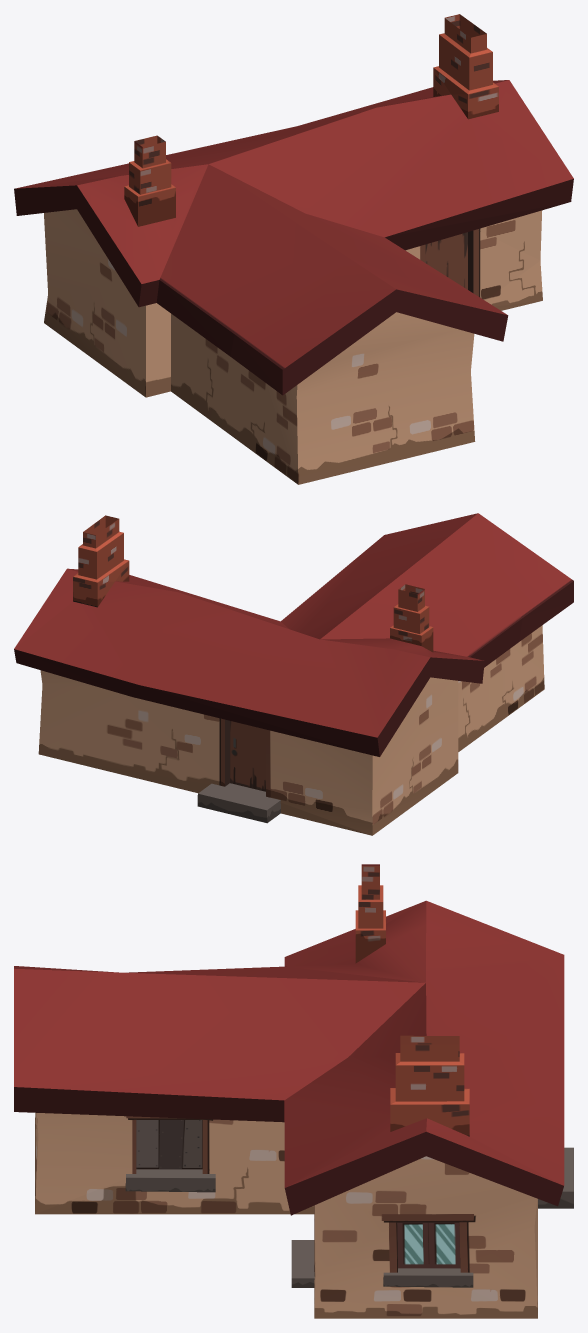
Rendered from farm_house_01.fbx.
3 renders of one model, top to bottom at view 1: azimuth 30°, elevation 25°; view 2: azimuth 150°, elevation 25°; view 3: azimuth 270°, elevation 25°, orthographic. The views are drawn at different scales.
Visible parts, largest first — view 1: farm:farm_house; view 2: farm:farm_house; view 3: farm:farm_house.
Boxes of the visible parts, x1,y1,x2,y2 form: farm:farm_house: (14,14,573,484); farm:farm_house: (14,513,573,835); farm:farm_house: (14,864,573,1318).
Size of the model in its own units: 10.97 by 5.88 by 11.23.
